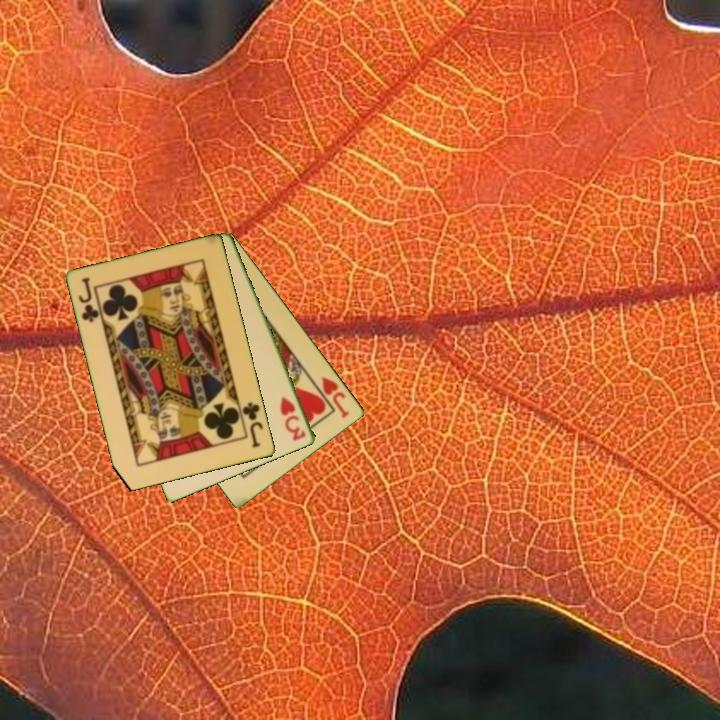3h: (277, 393, 309, 444)
Jc: (239, 399, 266, 451), (75, 274, 102, 326)
Jh: (309, 373, 352, 421)
